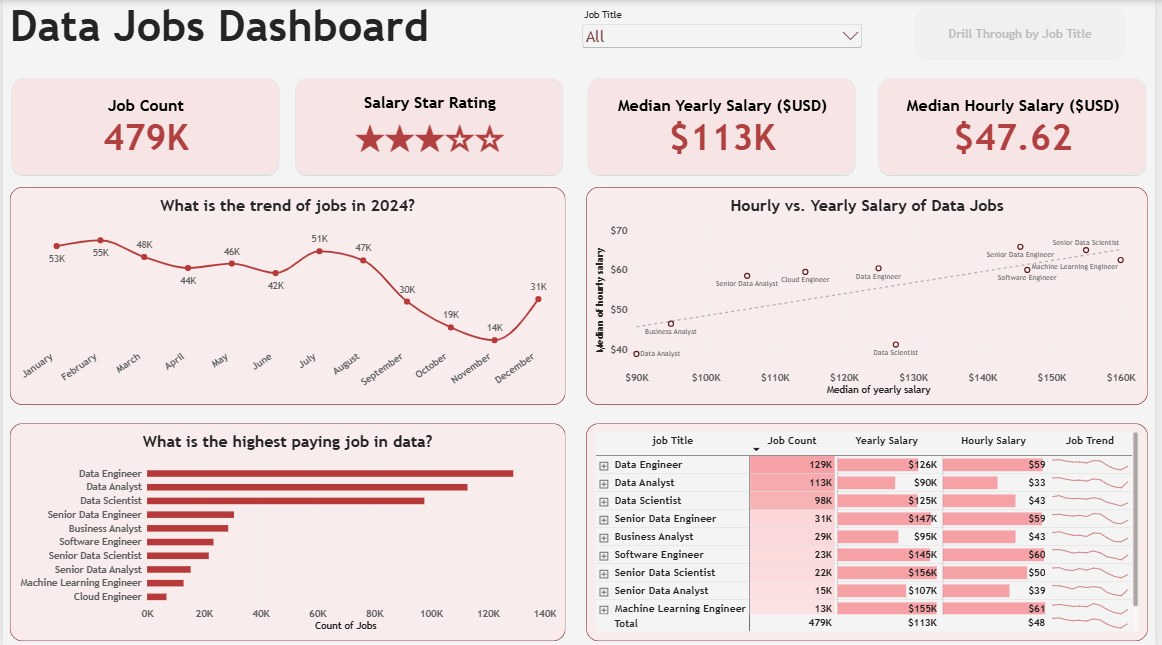

Layout of this report page (visuals, bound fields, positions):
{"tool":"powerbi","page":{"name":"Main Dashboard","canvas":[1920,1080],"ordinal":0},"visuals":[{"type":"textbox","box":[11.3,0,949.6,127.6],"z":0},{"type":"slicer","fields":{"Values":["job_postings_flat.job_title_short"]},"box":[960,13.3,476.2,73.7],"z":1000},{"type":"cardVisual","fields":{"Data":["CountNonNull(job_postings_flat.job_title_short)"]},"box":[11.4,127.1,452.9,167.1],"z":2000},{"type":"cardVisual","fields":{"Data":["job_postings_flat.Salary Star Rating"]},"box":[485.7,127.1,452.9,167.1],"z":3000},{"type":"cardVisual","fields":{"Data":["Median(job_postings_flat.salary_year_avg)"]},"box":[971.4,127.1,452.9,167.1],"z":4000},{"type":"cardVisual","fields":{"Data":["Median(job_postings_flat.salary_hour_avg)"]},"box":[1455.7,127.1,452.9,167.1],"z":5000},{"type":"shape","box":[11.7,311.7,926.7,363.3],"z":6000},{"type":"lineChart","title":"What is the trend of jobs in 2024?","fields":{"Category":["job_postings_flat.job_posted_date.Variation.Date Hierarchy.Year","job_postings_flat.job_posted_date.Variation.Date Hierarchy.Quarter","job_postings_flat.job_posted_date.Variation.Date Hierarchy.Month","job_postings_flat.job_posted_date.Variation.Date Hierarchy.Day"],"Y":["CountNonNull(job_postings_flat.job_title_short)"]},"box":[11.7,311.7,926.7,363.3],"z":7000},{"type":"shape","box":[11.7,706.7,926.7,363.3],"z":8000},{"type":"barChart","title":"What is the highest paying job in data?","fields":{"Category":["job_postings_flat.job_title_short"],"Y":["CountNonNull(job_postings_flat.job_title_short)"]},"box":[11.7,706.7,926.7,363.3],"z":9000},{"type":"shape","box":[971.7,311.7,936.7,363.3],"z":10000},{"type":"scatterChart","title":"Hourly vs. Yearly Salary of Data Jobs","fields":{"Series":["job_postings_flat.job_title_short"],"X":["Median(job_postings_flat.salary_year_avg)"],"Y":["Median(job_postings_flat.salary_hour_avg)"]},"box":[971.7,311.7,936.7,363.3],"z":11000},{"type":"shape","box":[971.7,706.7,936.7,363.3],"z":12000},{"type":"pivotTable","fields":{"Rows":["job_postings_flat.job_title_short","job_postings_flat.job_posted_date.Variation.Date Hierarchy.Quarter"],"Values":["CountNonNull(job_postings_flat.job_title_short)","Median(job_postings_flat.salary_year_avg)","Median(job_postings_flat.salary_hour_avg)","SparklineData(CountNonNull(job_postings_flat.job_title_short)_[job_postings_flat.job_posted_date.Variation.Date Hierarch"]},"box":[971.7,706.7,936.7,363.3],"z":13000},{"type":"actionButton","box":[1518.9,13.3,353.3,86.7],"z":14000}]}

Visuals, with their boxes in screenshot pixels (x1, y1, x2, y2), scaled from the page's 1920x1080 canvas onto the 1162x645 screenshot:
textbox: crop(7, 0, 582, 76)
slicer - job_postings_flat.job_title_short: crop(581, 8, 869, 52)
cardVisual - CountNonNull(job_postings_flat.job_title_short): crop(7, 76, 281, 176)
cardVisual - job_postings_flat.Salary Star Rating: crop(294, 76, 568, 176)
cardVisual - Median(job_postings_flat.salary_year_avg): crop(588, 76, 862, 176)
cardVisual - Median(job_postings_flat.salary_hour_avg): crop(881, 76, 1155, 176)
shape: crop(7, 186, 568, 403)
"What is the trend of jobs in 2024?" lineChart: crop(7, 186, 568, 403)
shape: crop(7, 422, 568, 639)
"What is the highest paying job in data?" barChart: crop(7, 422, 568, 639)
shape: crop(588, 186, 1155, 403)
"Hourly vs. Yearly Salary of Data Jobs" scatterChart: crop(588, 186, 1155, 403)
shape: crop(588, 422, 1155, 639)
pivotTable - job_postings_flat.job_title_short x job_postings_flat.job_posted_date.Variation.Date Hierarchy.Quarter: crop(588, 422, 1155, 639)
actionButton: crop(919, 8, 1133, 60)
